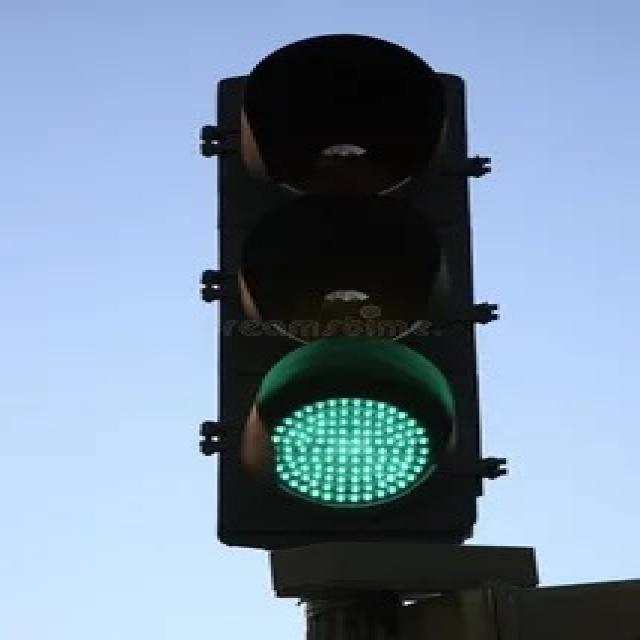yesil: (223, 34, 475, 541)
